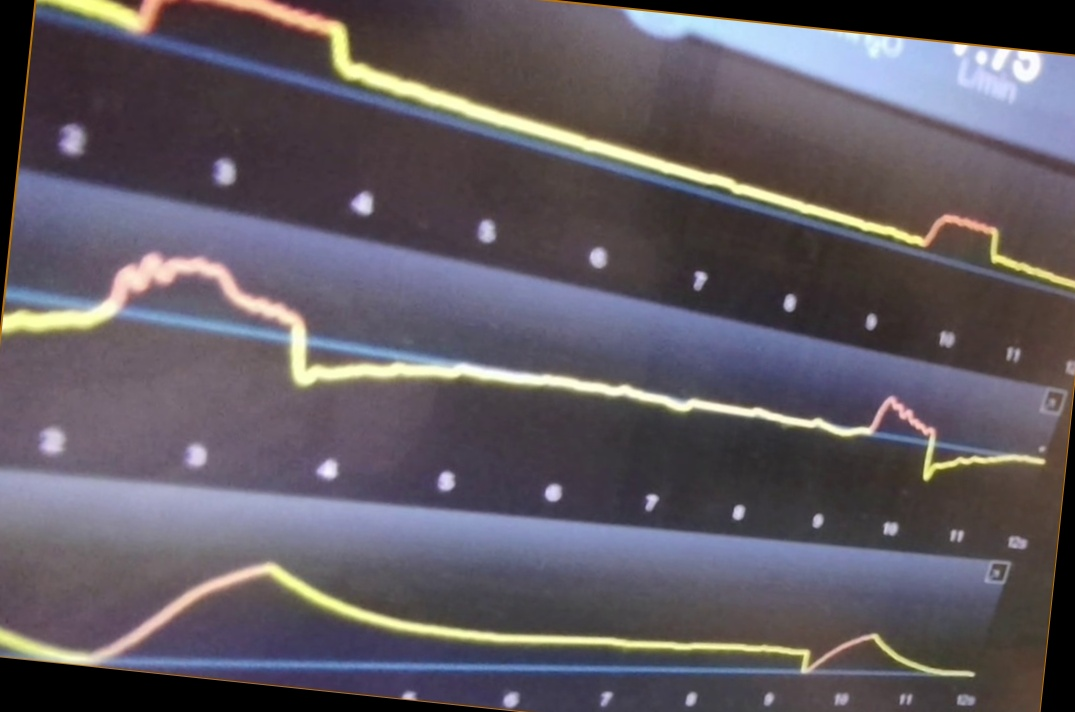Accumulation Flow: (22, 248, 984, 484)
Volume: (3, 534, 975, 678)
